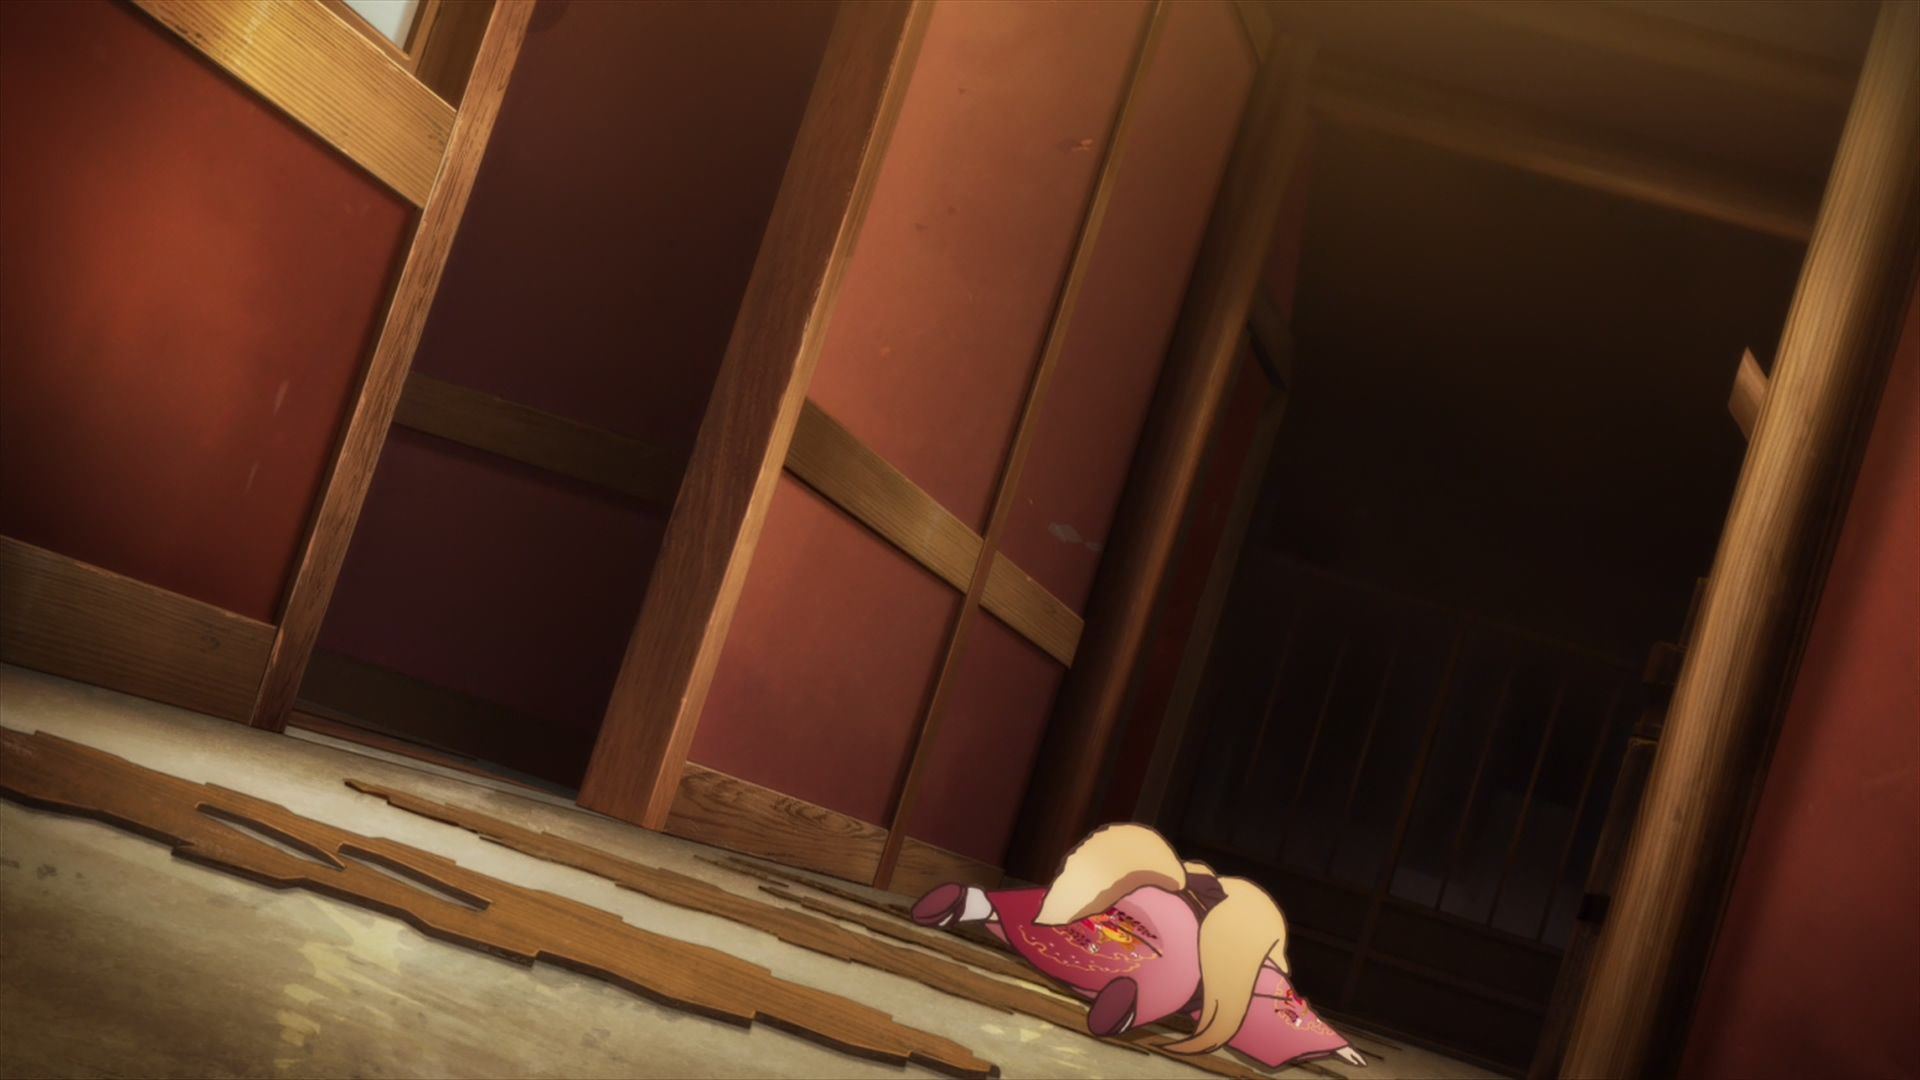柚: (913, 824, 1364, 1073)
